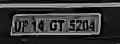0: (81, 19, 90, 33)
1: (30, 17, 38, 32)
2: (76, 17, 82, 34)
4: (88, 18, 98, 33), (37, 20, 48, 33)
5: (67, 18, 76, 32)
G: (48, 18, 58, 33)
P: (20, 19, 30, 32)
T: (56, 18, 68, 33)
U: (14, 21, 23, 33)
